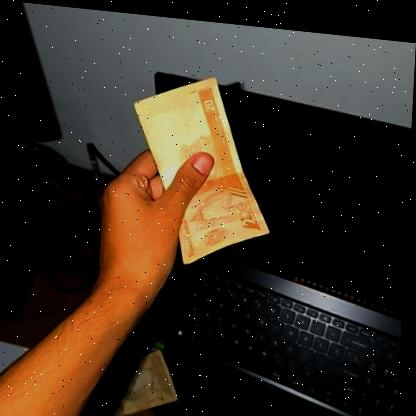twenty-back-vef: (128, 65, 278, 267)
